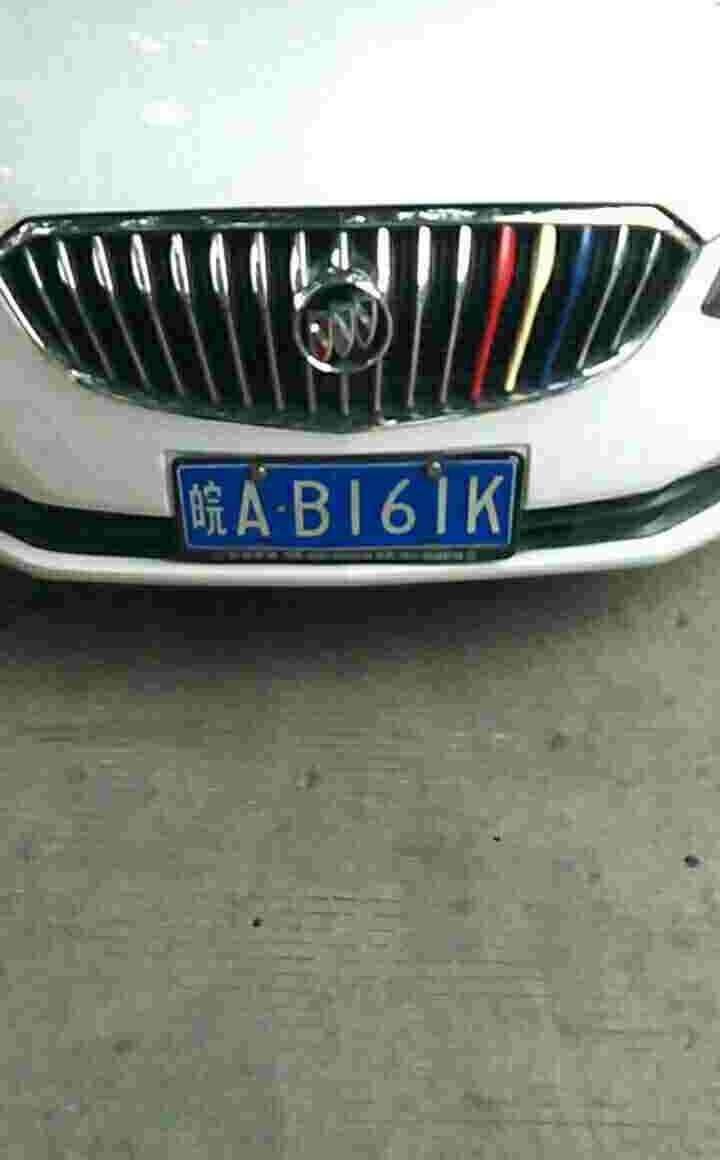license_plate: (171, 459, 516, 561)
